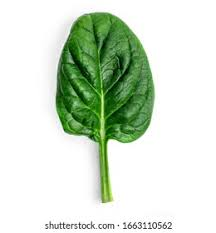spinach: (62, 8, 152, 159)
